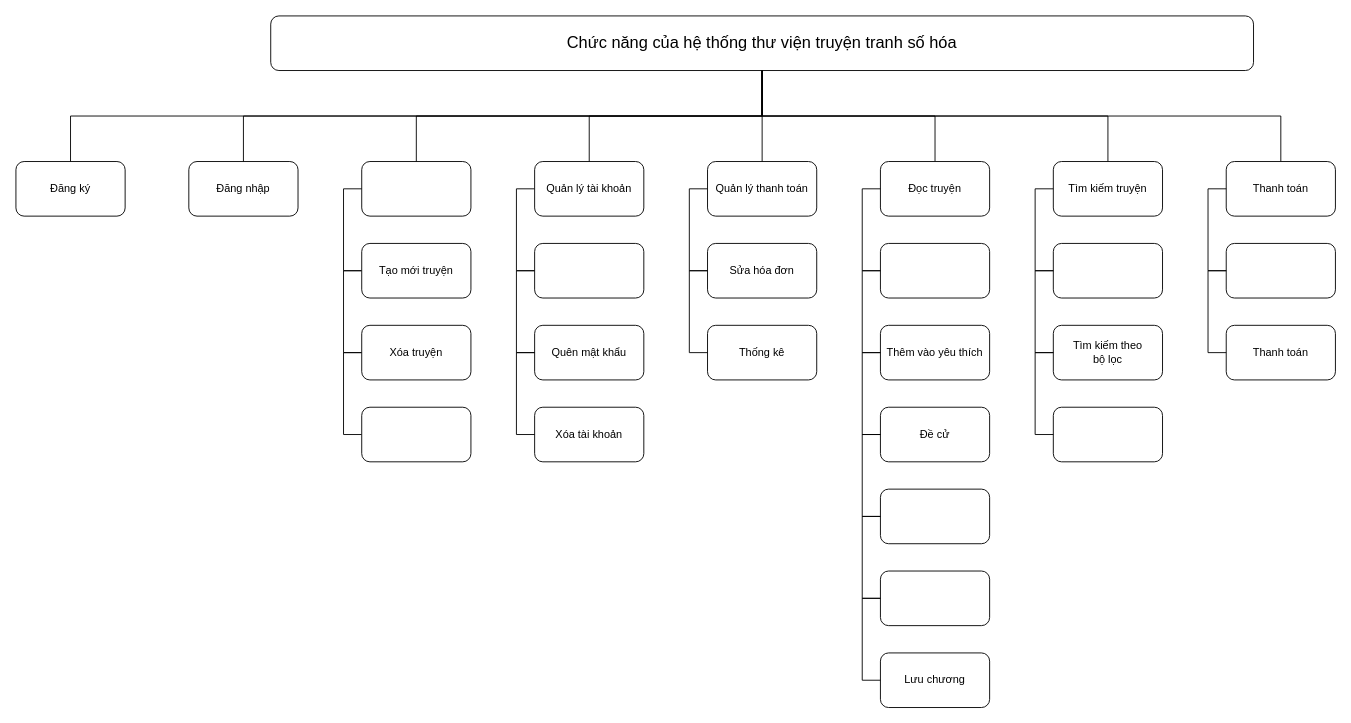
This 1351x723 diagram has some shape labels left out. The box of each missing label's shape, as (x1, y1, x2, y2) in pixels:
Bình luận: (880, 570, 990, 626)
Chuyển chương: (880, 488, 990, 544)
Cập nhật truyện: (361, 406, 471, 462)
Hiển thị truyện: (880, 243, 990, 298)
Nạp tiền: (1225, 243, 1335, 298)
Quản lý truyện: (361, 161, 471, 216)
Sửa thông tin: (534, 243, 644, 298)
Tìm kiếm theo bảng xếp hạng: (1052, 406, 1163, 462)
Tìm kiếm theo tên truyện: (1052, 243, 1163, 298)
